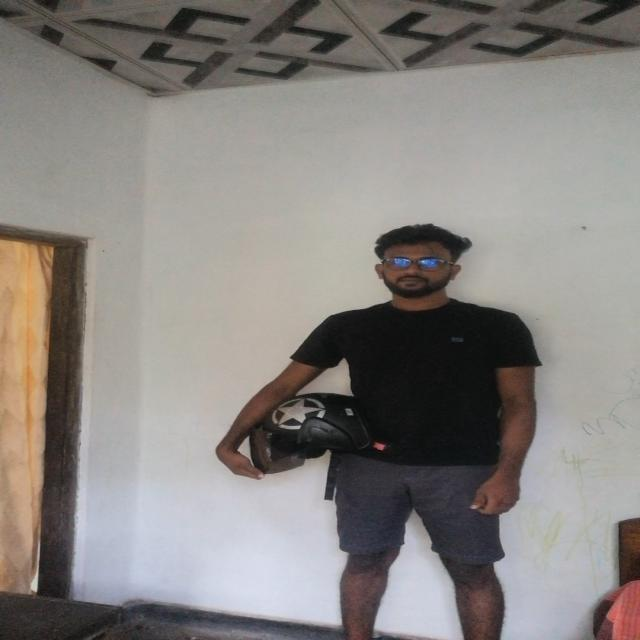Person: (258, 228, 573, 636)
